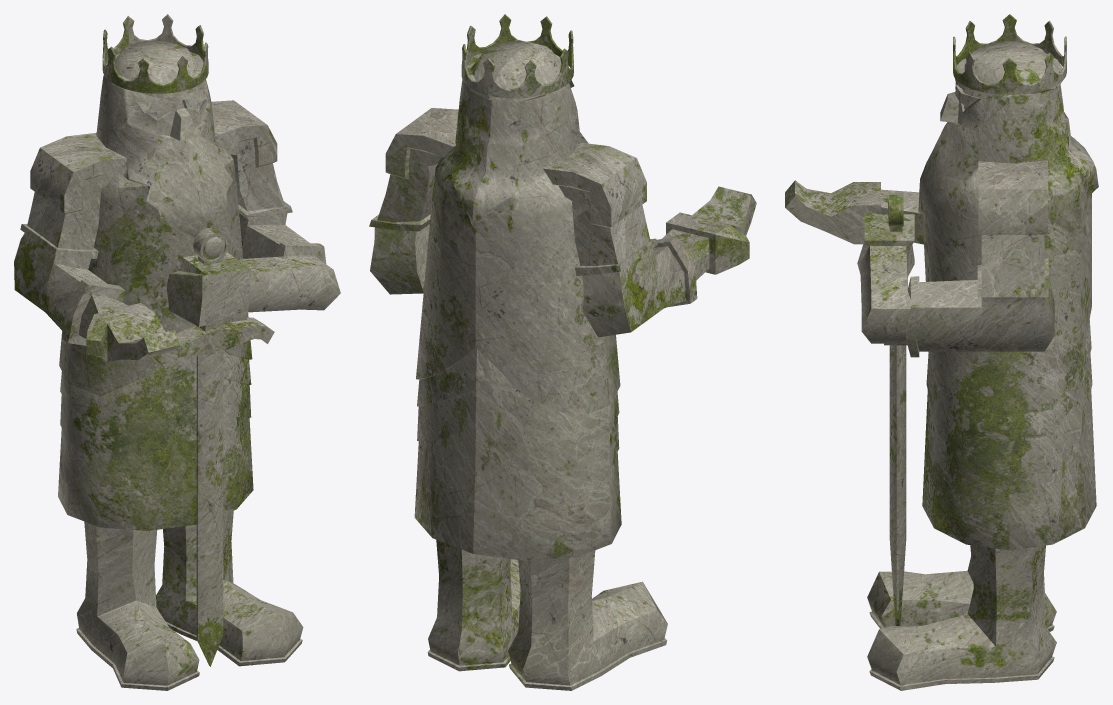
The model's file is StatueHO.fbx.
3 renders of one model, left to right at view 1: azimuth 30°, elevation 25°; view 2: azimuth 150°, elevation 25°; view 3: azimuth 270°, elevation 25°, orthographic. The views are drawn at different scales.
Parts seen in each view (by area): view 1: Body, RT_Arm, LT_Arm, RT_Leg, LT_Leg, Blade, Crown, Hilt, HandleDecor; view 2: Body, RT_Arm, RT_Leg, LT_Arm, LT_Leg, Crown; view 3: Body, LT_Arm, LT_Leg, RT_Leg, RT_Arm, Blade, Crown, HandleDecor.
Part boxes in pixels (x1,y1,x2,y2): Body: (58, 40, 253, 530); RT_Arm: (14, 133, 179, 361); LT_Arm: (166, 100, 340, 326); RT_Leg: (76, 521, 199, 690); LT_Leg: (156, 510, 303, 666); Blade: (196, 352, 223, 666); Crown: (102, 14, 208, 93); Hilt: (151, 317, 274, 368); HandleDecor: (193, 227, 228, 262); Body: (414, 42, 621, 560); RT_Arm: (543, 142, 756, 337); RT_Leg: (508, 550, 667, 690); LT_Arm: (369, 108, 458, 294); LT_Leg: (427, 540, 520, 671); Crown: (461, 14, 573, 98); Body: (918, 41, 1098, 550); LT_Arm: (857, 160, 1054, 357); LT_Leg: (867, 545, 1056, 690); RT_Leg: (867, 556, 1056, 631); RT_Arm: (785, 180, 923, 244); Blade: (889, 345, 906, 625); Crown: (953, 14, 1066, 94); HandleDecor: (888, 193, 903, 226).
Size of the model in its own units: 377 by 802 by 375.
